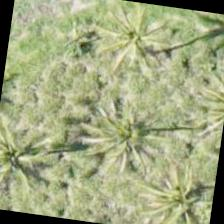Kelapa_Sawit: (67, 83, 169, 185), (88, 0, 191, 99), (0, 122, 57, 215)
